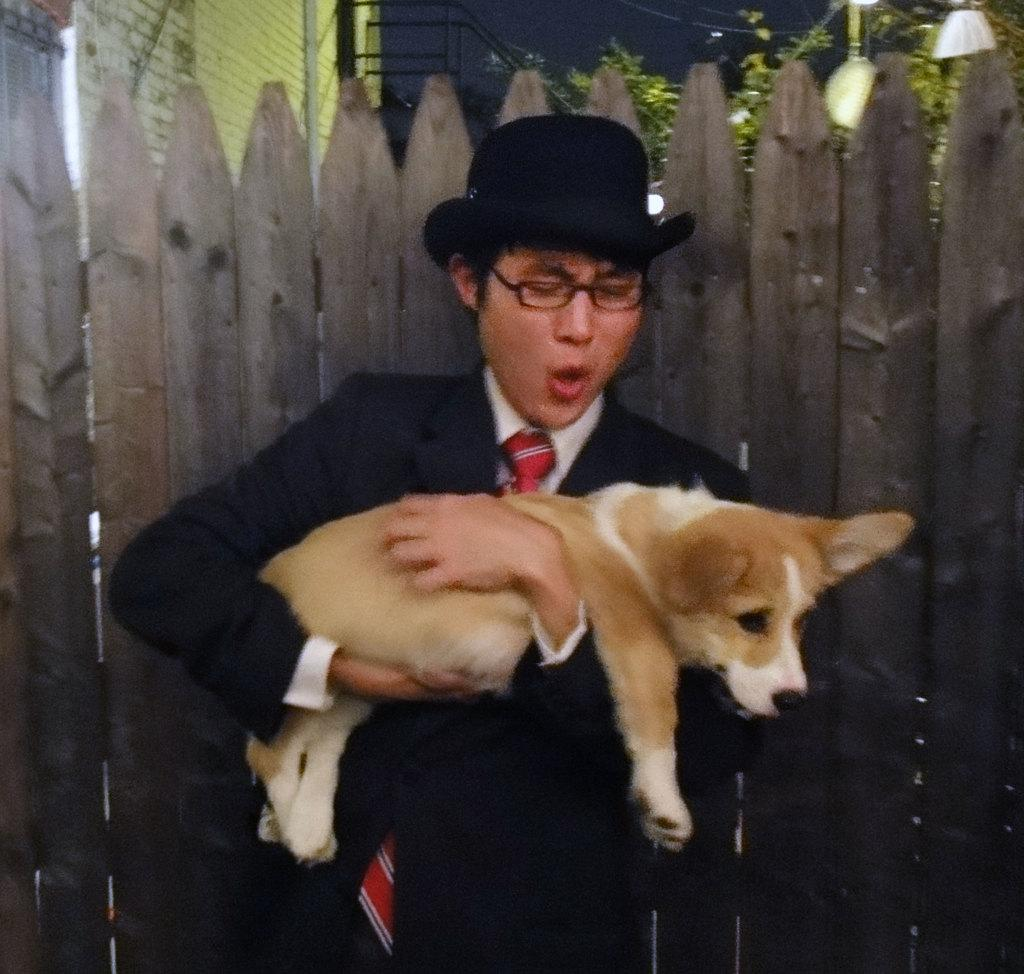Hat: (423, 113, 701, 274)
